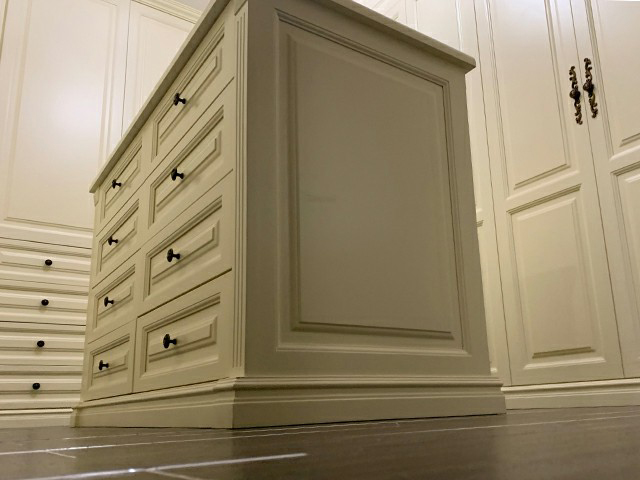cabinet: (1, 1, 640, 427), (68, 1, 508, 429)
